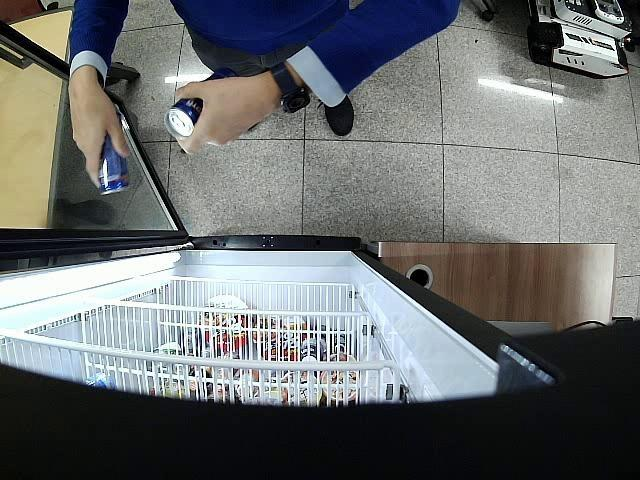16_hot6: (165, 69, 238, 138), (99, 112, 128, 195)
